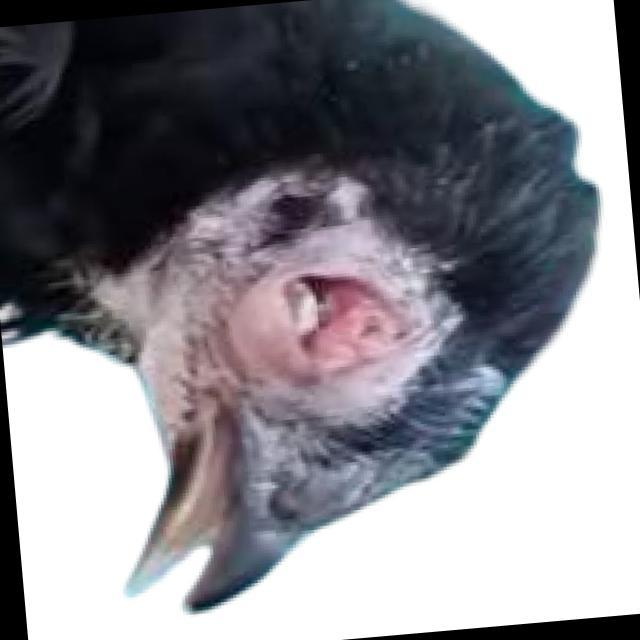Coryza: (250, 236, 408, 400)
